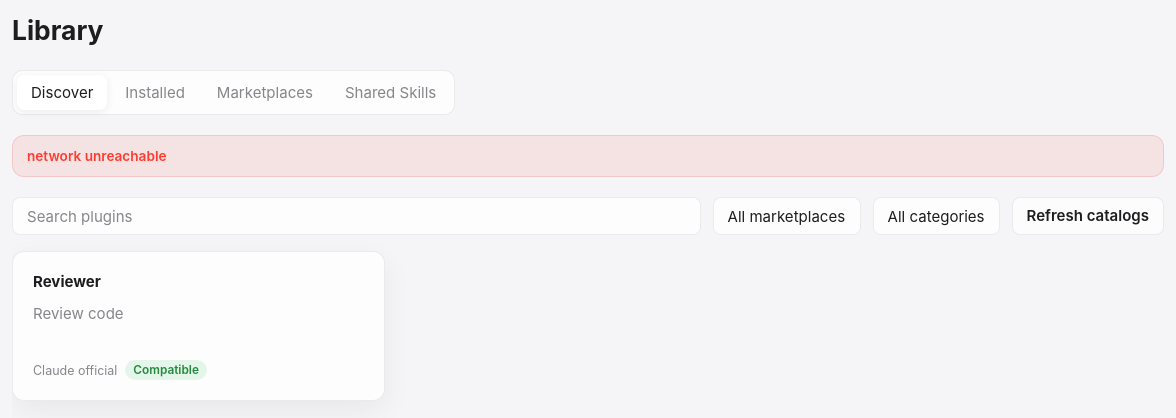
Test: PluginsTab › shows an error from a rejected loadPlugins while the list stays empty
The image size is (1176, 418).
Click the tab "Installed" at {"x": 155, "y": 92}, box [111,75,199,110]
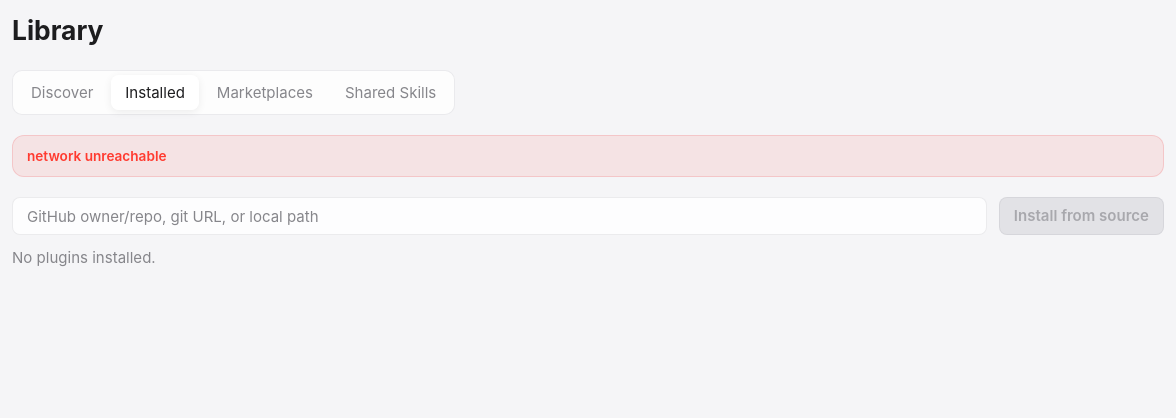
Result: the text "No plugins installed." is shown at [12,248,156,267]
